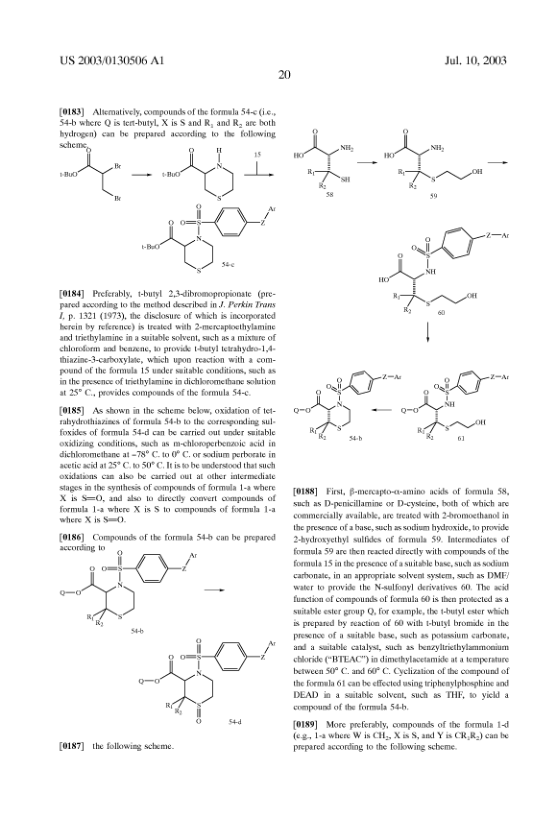compound-structure: (137, 626, 285, 739), (377, 213, 509, 320), (56, 549, 198, 636), (140, 202, 277, 278), (292, 361, 400, 451), (403, 365, 503, 457), (381, 123, 483, 207), (292, 124, 358, 204), (164, 143, 238, 202), (59, 146, 124, 207)
reaction: (53, 123, 527, 467), (45, 535, 289, 756)
reaction-arrow: (243, 147, 274, 186), (201, 583, 230, 606), (488, 149, 510, 177), (417, 322, 442, 346), (130, 167, 154, 185), (356, 154, 376, 174), (371, 405, 393, 415)
